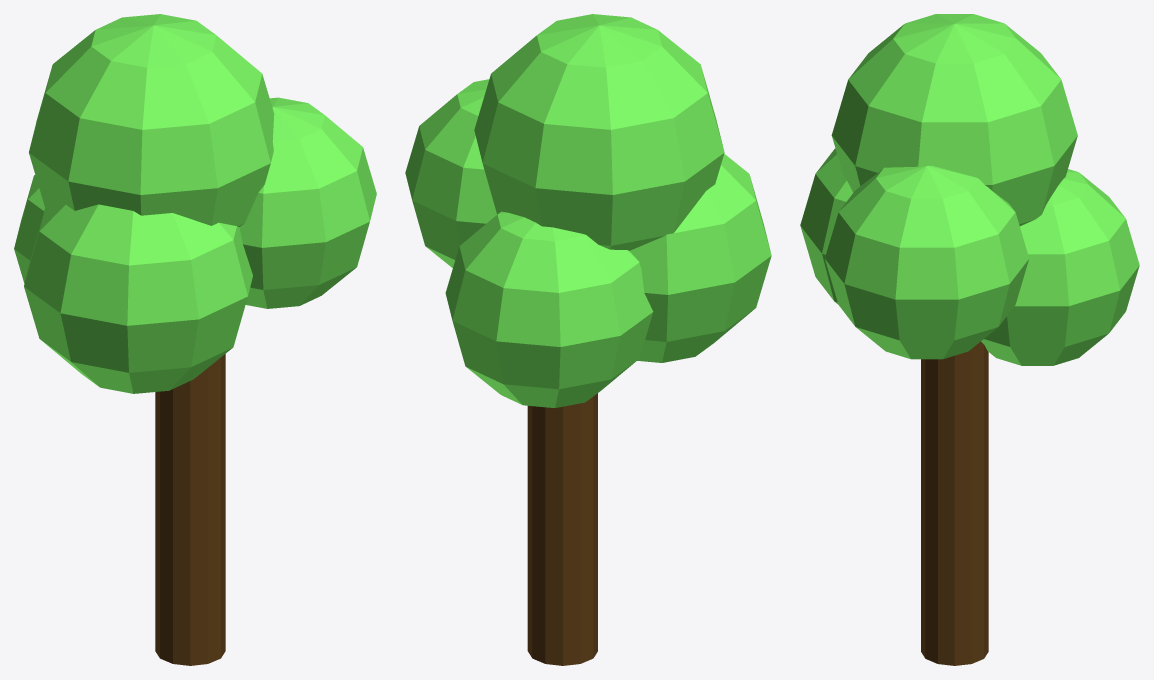
The model's file is Tree_01.fbx.
The picture shows the model from 3 angles, left to right: view 1: azimuth 30°, elevation 25°; view 2: azimuth 150°, elevation 25°; view 3: azimuth 270°, elevation 25°; orthographic projection. The views are drawn at different scales.
Visible parts, largest first — view 1: Cylinder; view 2: Cylinder; view 3: Cylinder.
Boxes of the visible parts, x1=… form: Cylinder: x1=14, y1=14, x2=376, y2=665; Cylinder: x1=405, y1=14, x2=771, y2=665; Cylinder: x1=800, y1=14, x2=1139, y2=665.
Bounding box in the file's own units: 354 × 661 × 333.
